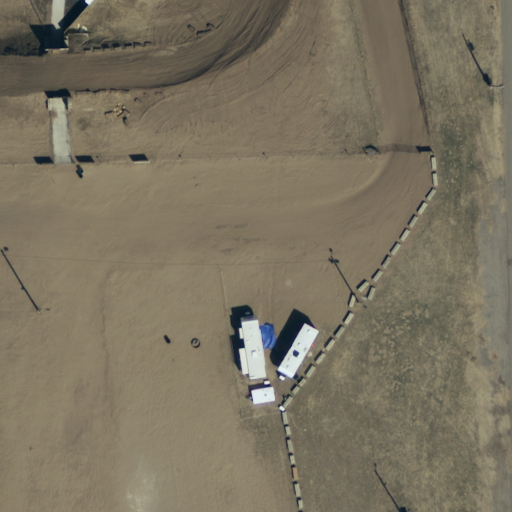DT: (346, 287, 377, 322), (478, 71, 506, 100), (24, 299, 55, 325)
